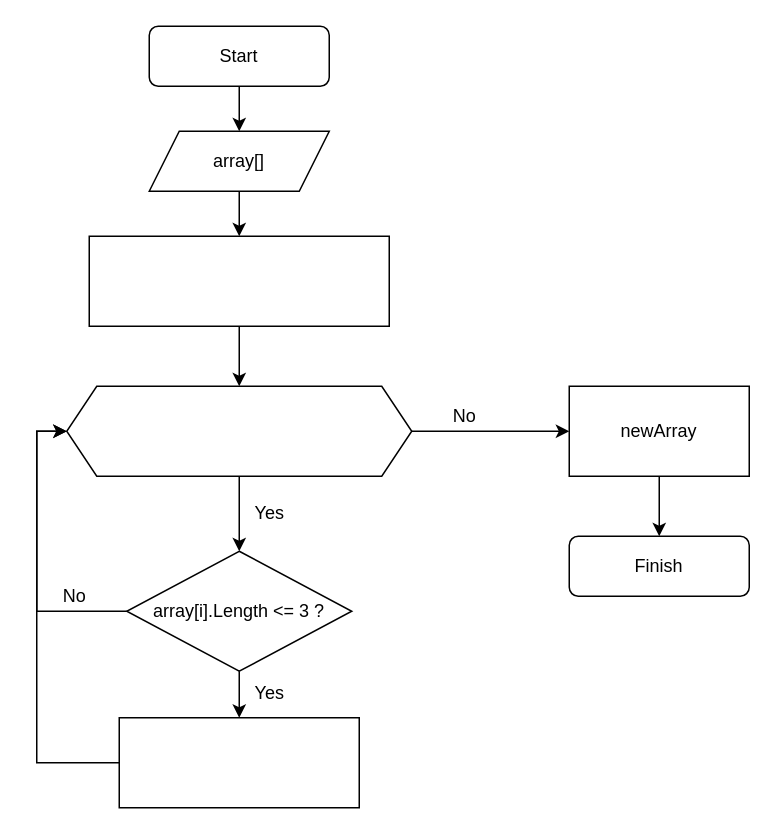
The diagram is 776 pixels wide and 834 high, and some of its shapes have lost their labels. The shapes that lost their labels are listed below. From the top down, each one's box as (x1, y1, x2, y2) in pixels, then its label:
(88, 235, 389, 326): newArray = new[array.Length] size = 0
(65, 385, 412, 476): i = 0; i < array.Length; i++
(118, 716, 359, 808): newArray[size] = arrai[i] size++
